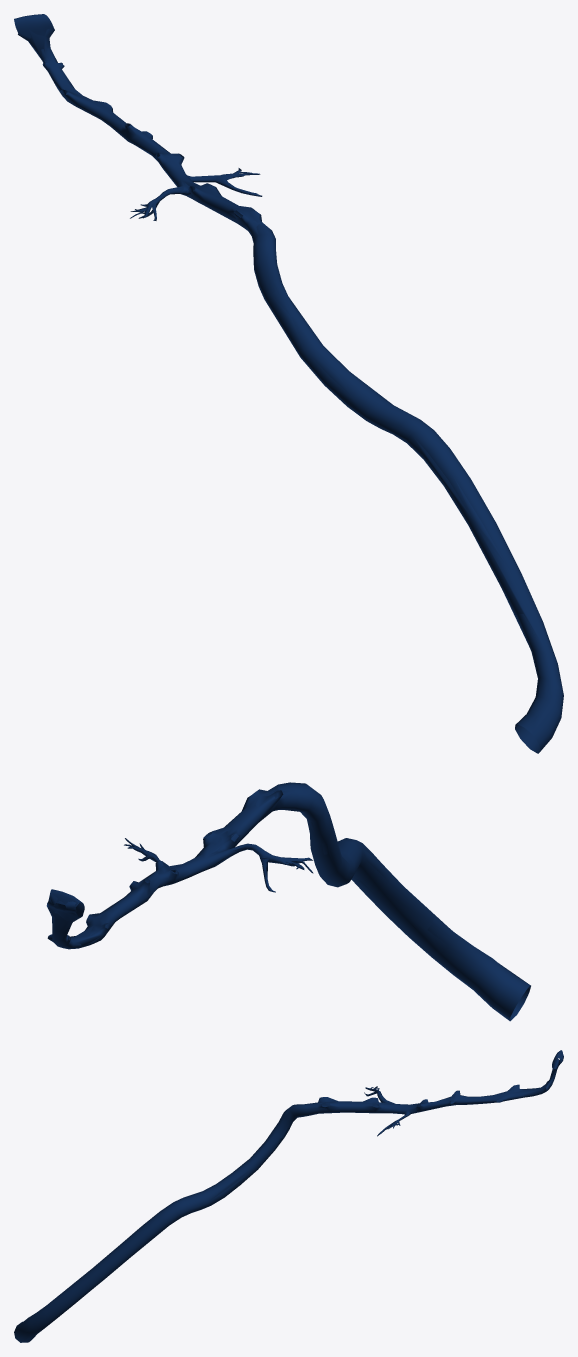
The model's file is vena cava caudalis.fbx.
3 renders of one model, top to bottom at view 1: azimuth 30°, elevation 25°; view 2: azimuth 150°, elevation 25°; view 3: azimuth 270°, elevation 25°, orthographic. The views are drawn at different scales.
Visible parts, largest first — view 1: vena cava caudalis, vena cava caudalis low; view 2: vena cava caudalis, vena cava caudalis low; view 3: vena cava caudalis, vena cava caudalis low.
Boxes of the visible parts, <box> form: vena cava caudalis: <box>14,14,563,753</box>; vena cava caudalis low: <box>28,28,562,751</box>; vena cava caudalis: <box>46,782,530,1021</box>; vena cava caudalis low: <box>47,785,530,1020</box>; vena cava caudalis: <box>14,1050,563,1342</box>; vena cava caudalis low: <box>15,1052,563,1340</box>.
Bounding box in the file's own units: 11.06 × 27.63 × 51.35.
